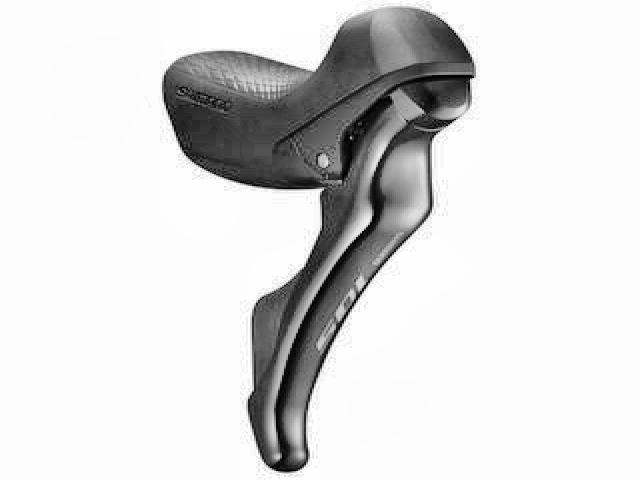sti_shifter: (155, 3, 482, 470)
